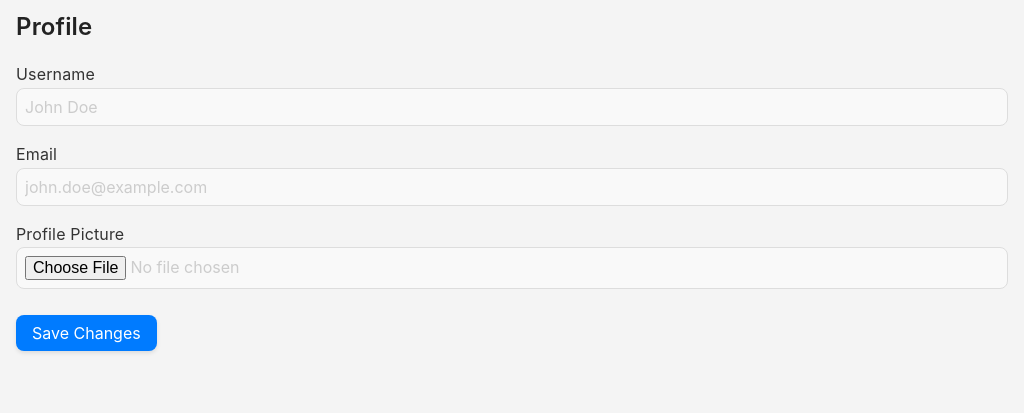
Test: Profile Component › allows updating the profile
Check: the field labelled "Email" is shown, box [16,168,1008,206]
Replace the text in the field labelled "Username" with "Jane Doe" at (512, 107), box [16,88,1008,126]
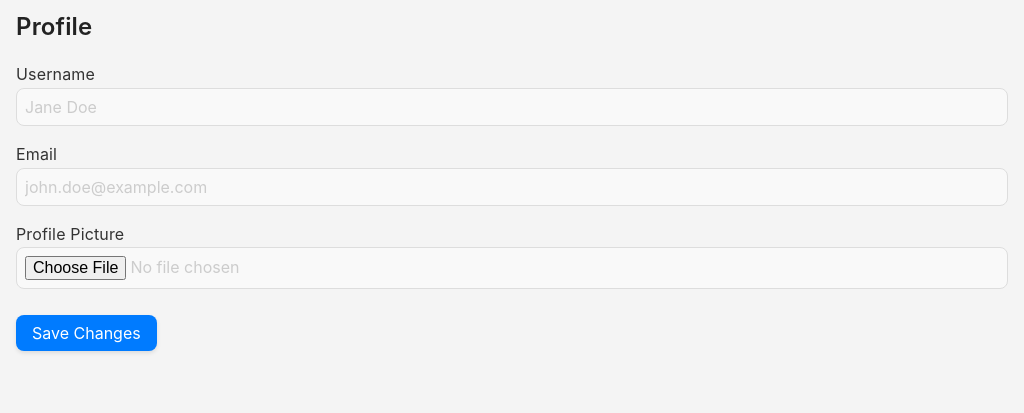
Replace the text in the field labelled "Email" with "jane.doe@example.com" at (512, 187), box [16,168,1008,206]
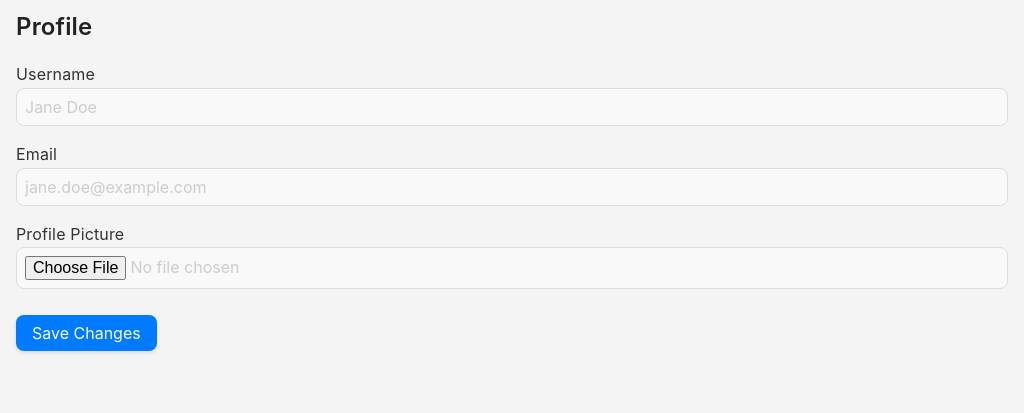
Click the button "Save Changes".
click(86, 333)  # box [16,315,157,351]
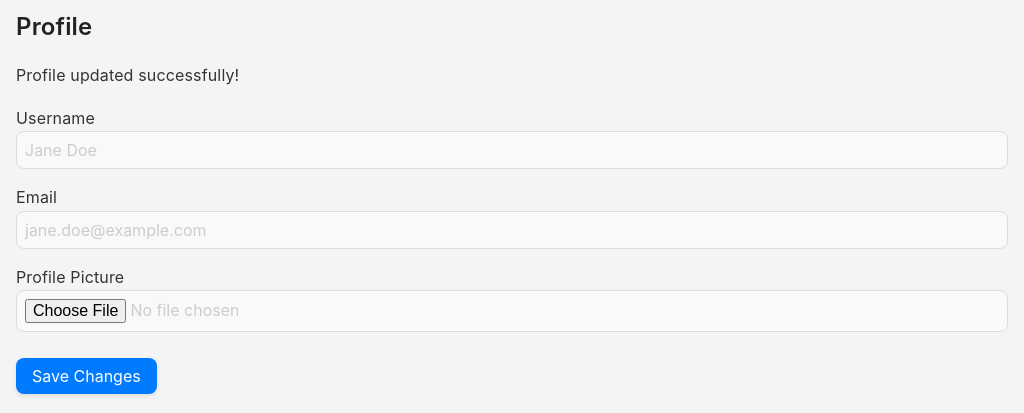
Check: the text "Profile updated successfully!" is shown, box [16,65,239,85]
